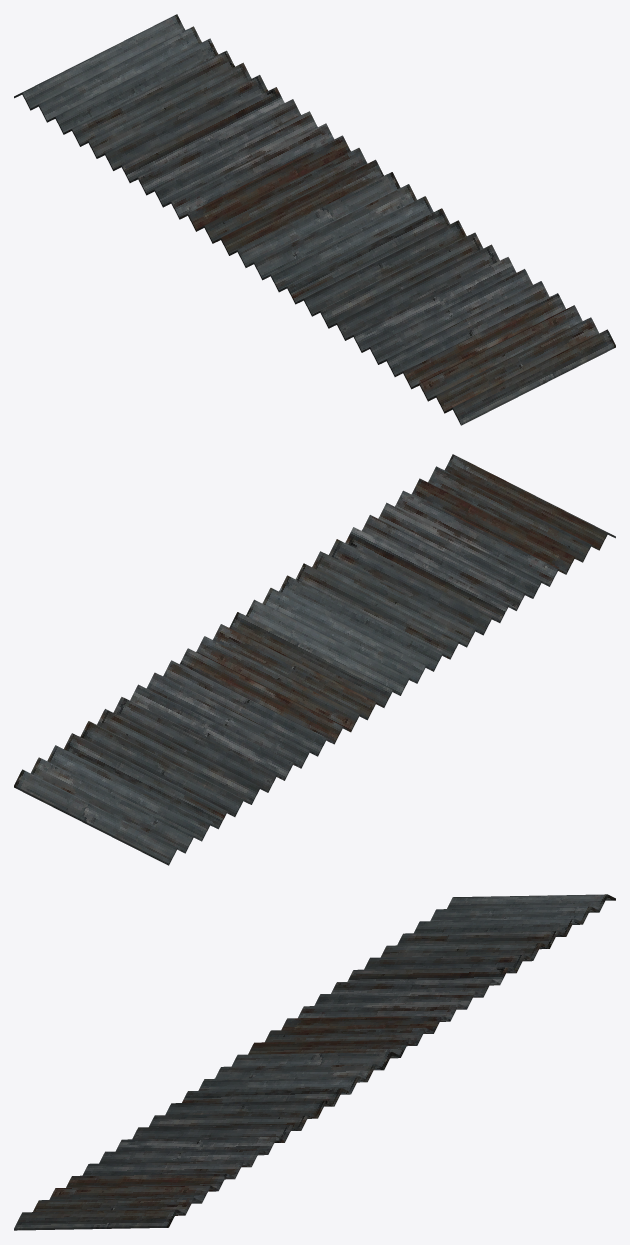
File: roof_hr_3_side_1_angle.glb
The picture shows the model from 3 angles, top to bottom: view 1: azimuth 30°, elevation 25°; view 2: azimuth 150°, elevation 25°; view 3: azimuth 330°, elevation 25°; orthographic projection.
Visible parts, largest first — view 1: roof_hr_3_side_1_angle; view 2: roof_hr_3_side_1_angle; view 3: roof_hr_3_side_1_angle.
Part boxes in pixels (x1,y1,x2,y2): roof_hr_3_side_1_angle: (14,14,615,425); roof_hr_3_side_1_angle: (14,454,615,865); roof_hr_3_side_1_angle: (14,894,615,1230).
Bounding box in the file's own units: 0.8 × 0.26 × 4.
1 material, 1 textured.
